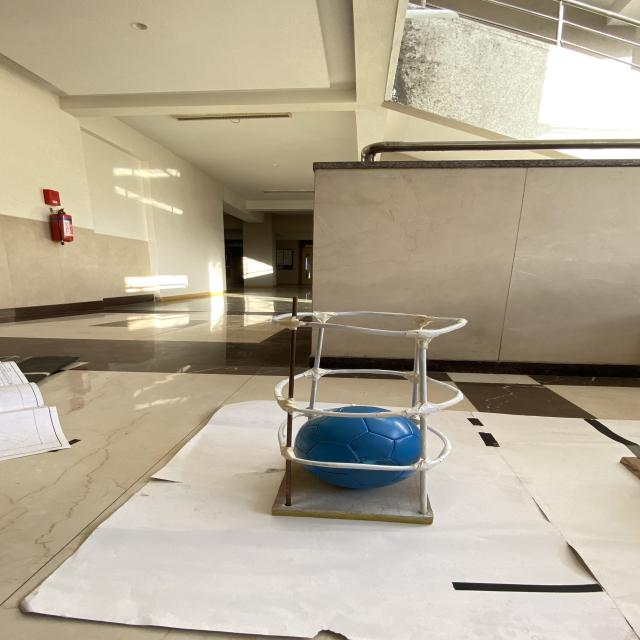blue_ball: (295, 404, 426, 487)
silo: (272, 312, 470, 523)
